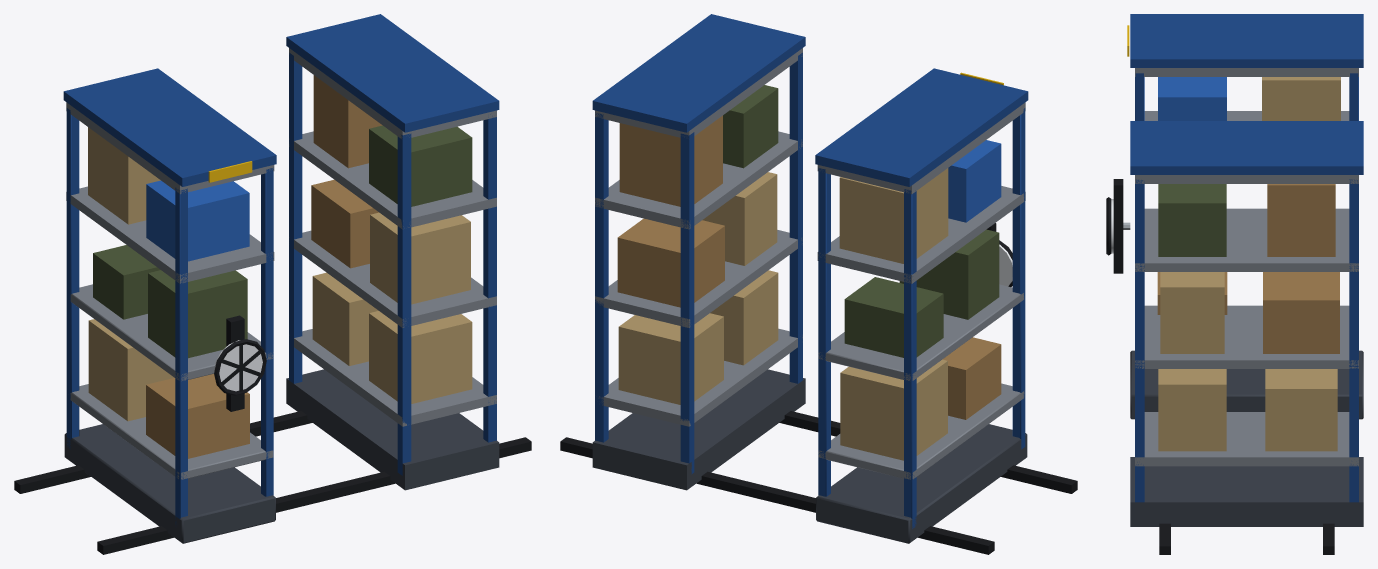
File: shelving_mobile_carriages.glb
3 renders of one model, left to right at view 1: azimuth 30°, elevation 25°; view 2: azimuth 150°, elevation 25°; view 3: azimuth 270°, elevation 25°, orthographic.
Visible parts, largest first — view 1: shelving_mobile_carriages; view 2: shelving_mobile_carriages; view 3: shelving_mobile_carriages.
Part boxes in pixels (bbox=[...]): shelving_mobile_carriages: bbox=[14, 14, 531, 554]; shelving_mobile_carriages: bbox=[560, 14, 1077, 554]; shelving_mobile_carriages: bbox=[1106, 14, 1363, 554].
Bounding box in the file's own units: 2.5 × 2.08 × 1.32.
